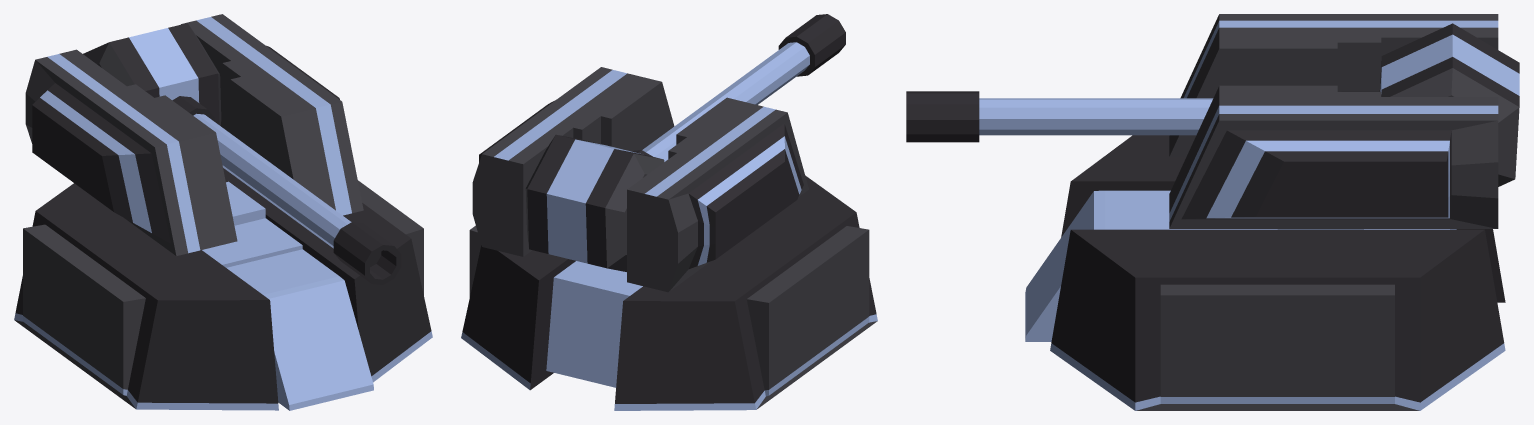
File: sniper.fbx
3 views of the same model, side by side, from view 1: azimuth 30°, elevation 25°; view 2: azimuth 150°, elevation 25°; view 3: azimuth 270°, elevation 25° (orthographic). The views are drawn at different scales.
Visible parts, largest first — view 1: Cube.005, Cube.008; view 2: Cube.005, Cube.008; view 3: Cube.005, Cube.008.
Part boxes in pixels (left/top/right/bottom): Cube.005: left=14, top=168, right=432, bottom=410; Cube.008: left=25, top=14, right=401, bottom=284; Cube.005: left=461, top=175, right=877, bottom=410; Cube.008: left=472, top=14, right=845, bottom=292; Cube.005: left=1025, top=135, right=1505, bottom=410; Cube.008: left=906, top=14, right=1519, bottom=228.
Bounding box in the file's own units: 88.19 × 67.58 × 134.
